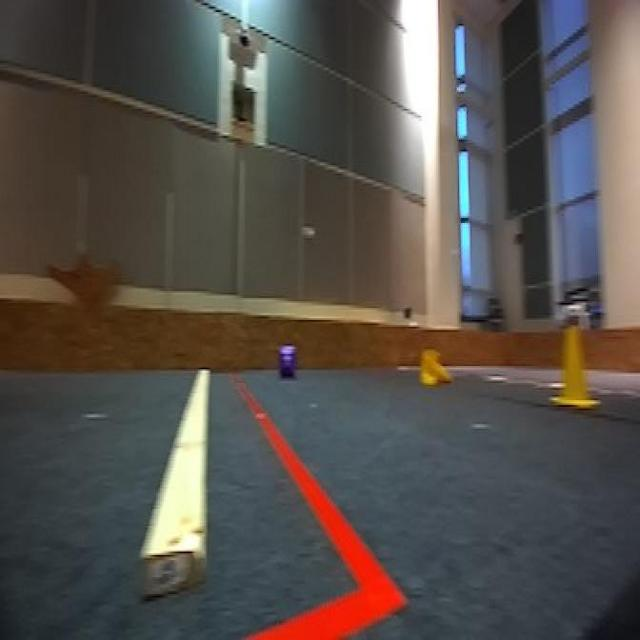frc_cone: (549, 322, 597, 410), (416, 346, 454, 388)
frc_cube: (277, 346, 297, 380)
